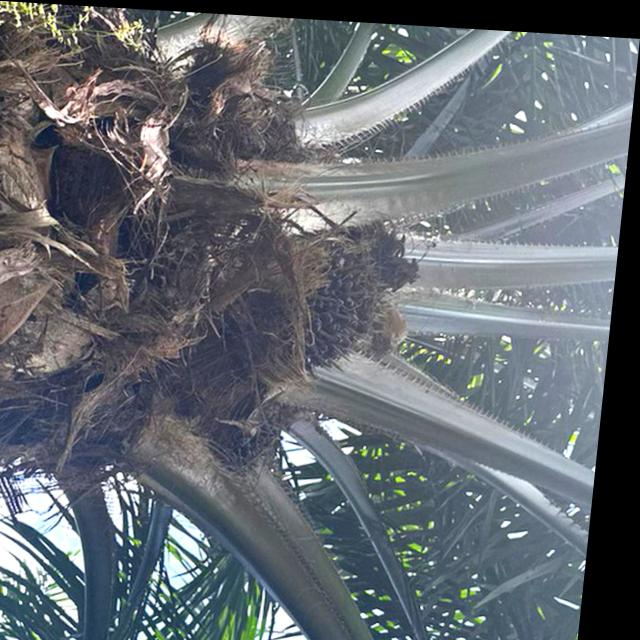almost: (253, 215, 406, 377)
